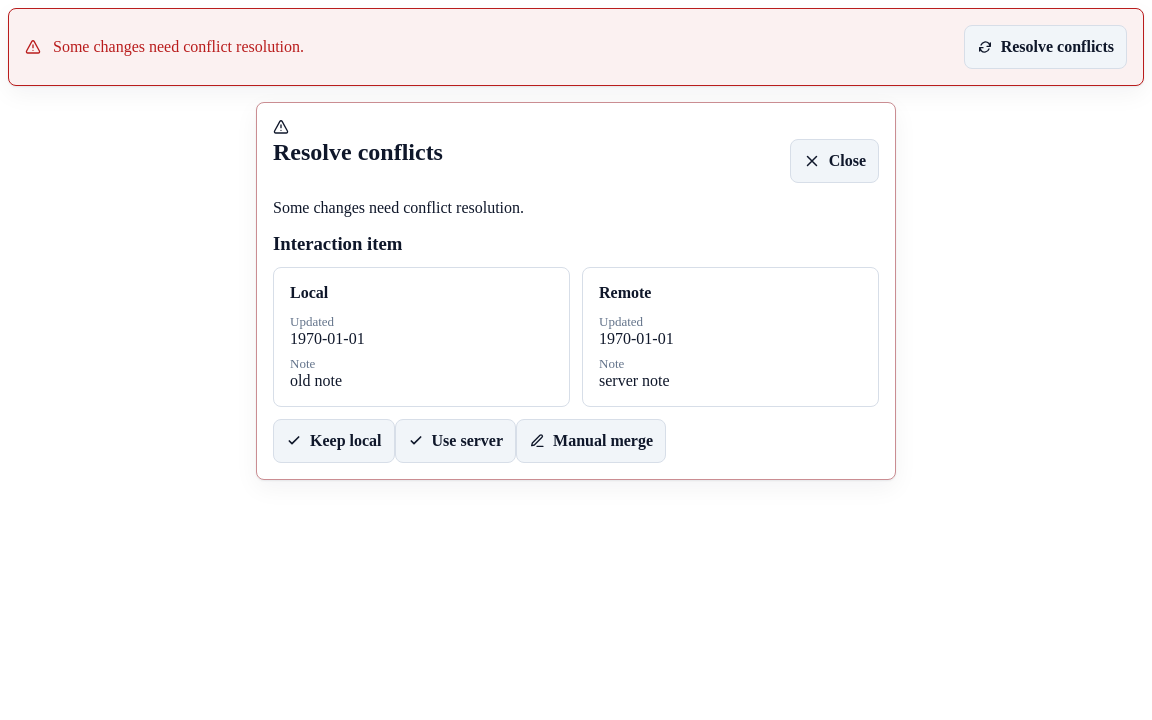
Test: surfaces sync conflicts and delegates server resolution from the recovery dialog
expect the text "Some changes need conflict resolution." is shown 2 times: met, box [53,38,304,55]; [273,199,524,216]
expect the element labelled "Local" is shown: met, box [273,267,570,407]
Step 1. Click the button "Use server" → (455, 441), box [394,419,516,463]
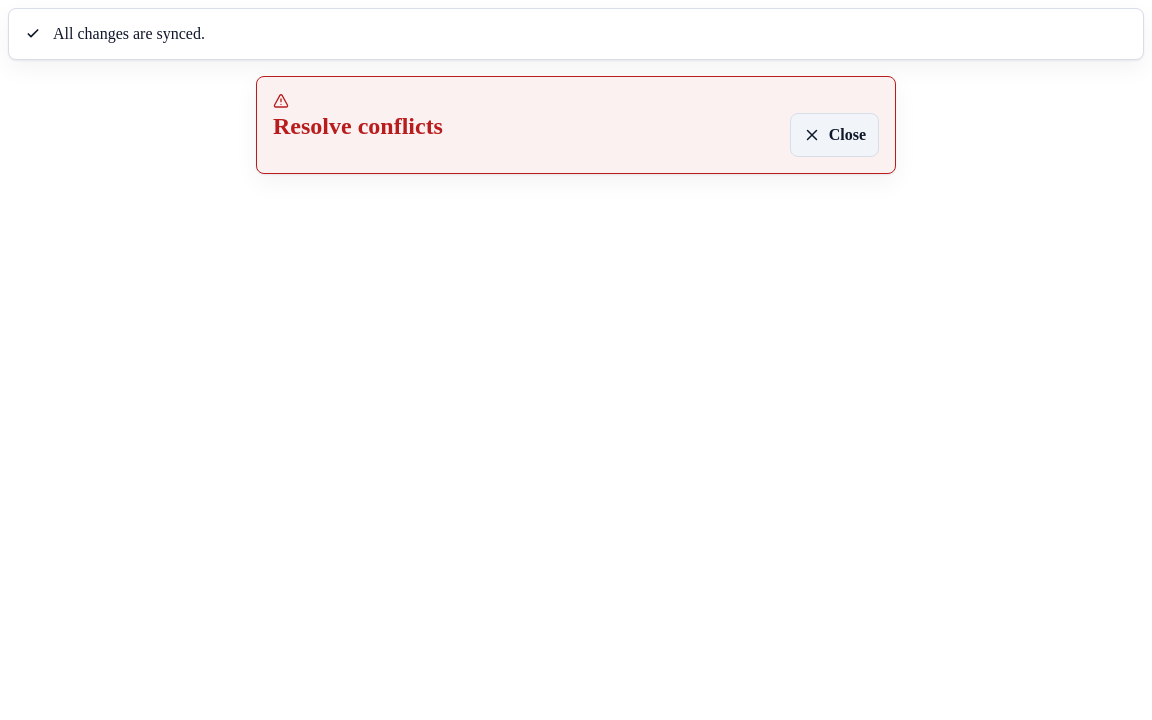
expect the text "Some changes need conflict resolution." is gone: met
